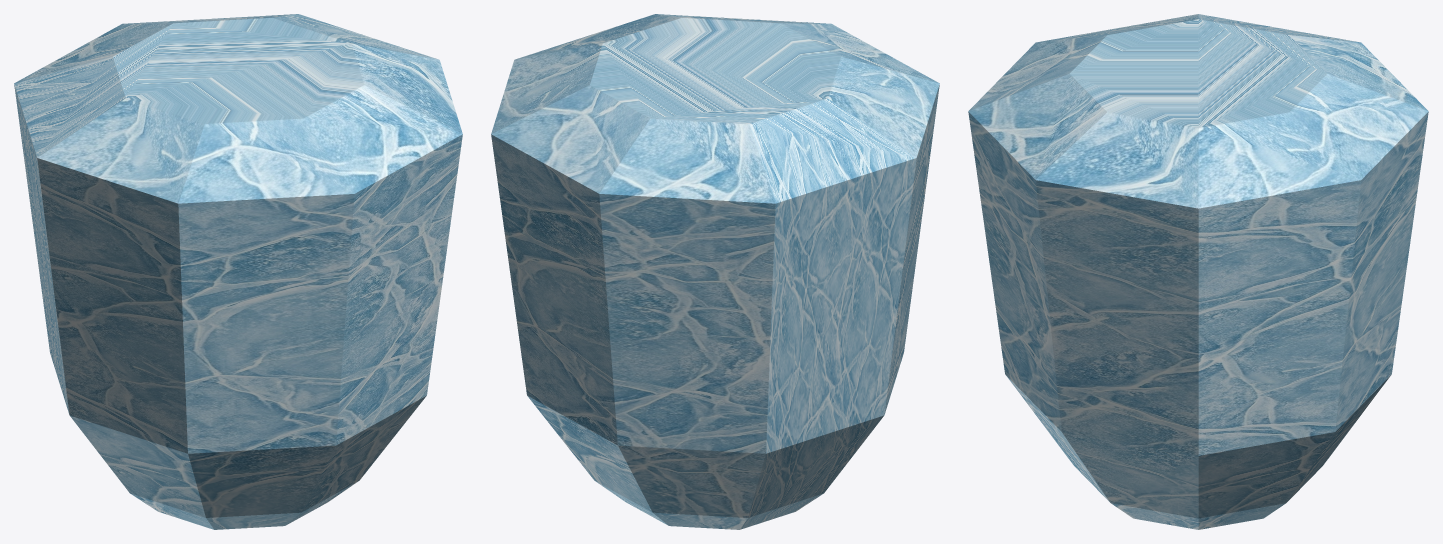
The model's file is IceJellyfishSegment.obj.
3 views of the same model, side by side, from view 1: azimuth 30°, elevation 25°; view 2: azimuth 150°, elevation 25°; view 3: azimuth 270°, elevation 25° (orthographic).
Parts seen in each view (by area): view 1: IceJellyfishSegment; view 2: IceJellyfishSegment; view 3: IceJellyfishSegment.
Part boxes in pixels (<box>): IceJellyfishSegment: <box>14,14,462,529</box>; IceJellyfishSegment: <box>491,14,939,529</box>; IceJellyfishSegment: <box>968,14,1428,529</box>.
Bounding box in the file's own units: 1 × 1 × 1.
Materials: 1 (1 with a texture image).
